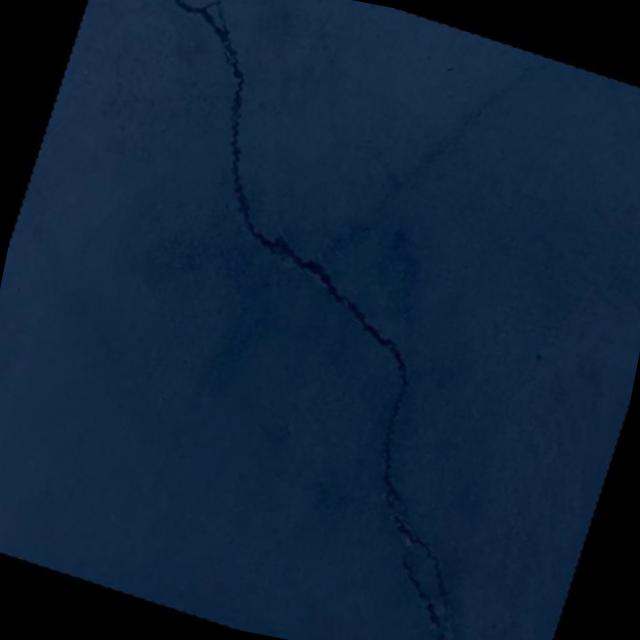crack: (0, 0, 627, 625), (367, 554, 530, 640)
